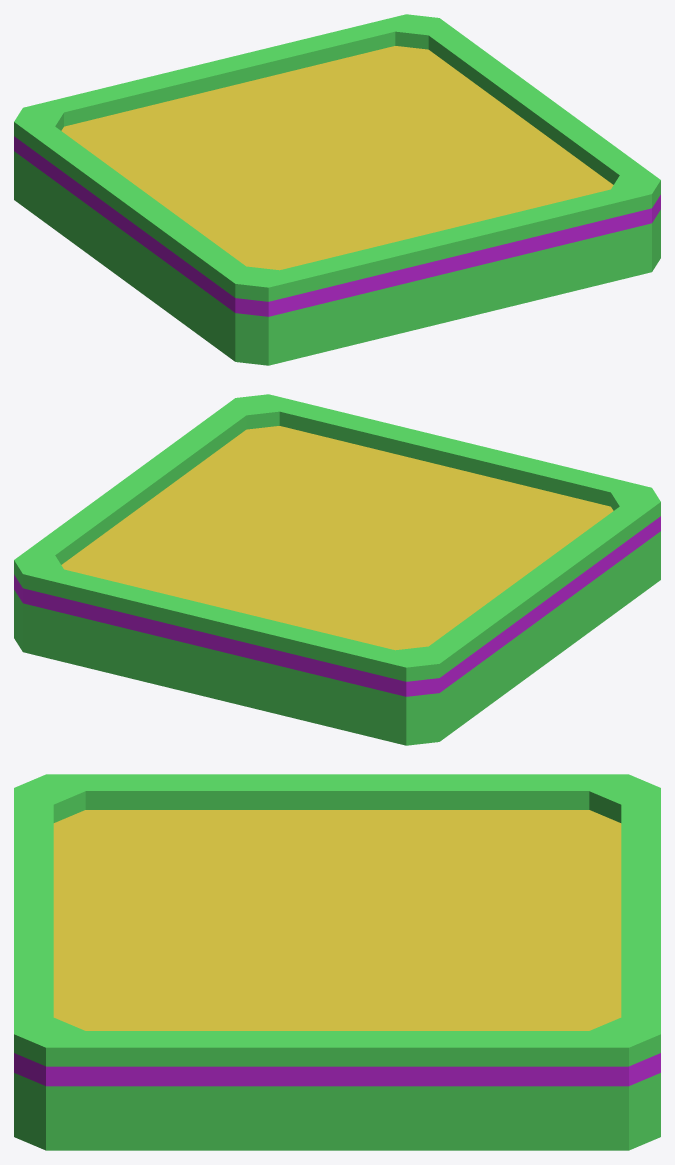
File: Lamp_09.fbx
3 views of the same model, one above another, from view 1: azimuth 30°, elevation 25°; view 2: azimuth 150°, elevation 25°; view 3: azimuth 270°, elevation 25° (orthographic). The views are drawn at different scales.
Visible parts, largest first — view 1: Lamp_09; view 2: Lamp_09; view 3: Lamp_09.
Part boxes in pixels (<box>): Lamp_09: <box>14,14,660,365</box>; Lamp_09: <box>14,394,660,745</box>; Lamp_09: <box>14,774,660,1150</box>.
Size of the model in its own units: 60.96 by 10.69 by 60.96.
